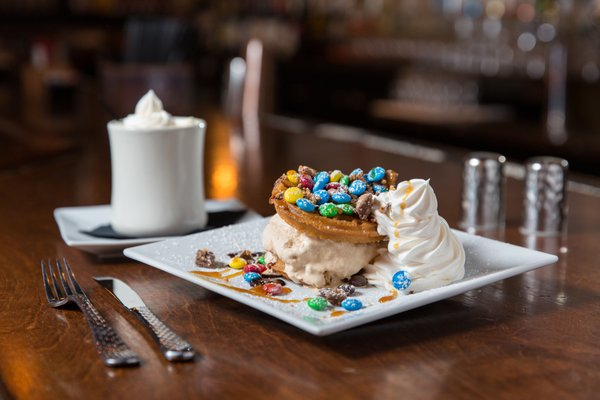burger: (59, 258, 141, 367)
pizza: (107, 112, 208, 237), (521, 156, 570, 251), (460, 153, 506, 238)
sandwich: (94, 276, 197, 362), (60, 262, 141, 366)
